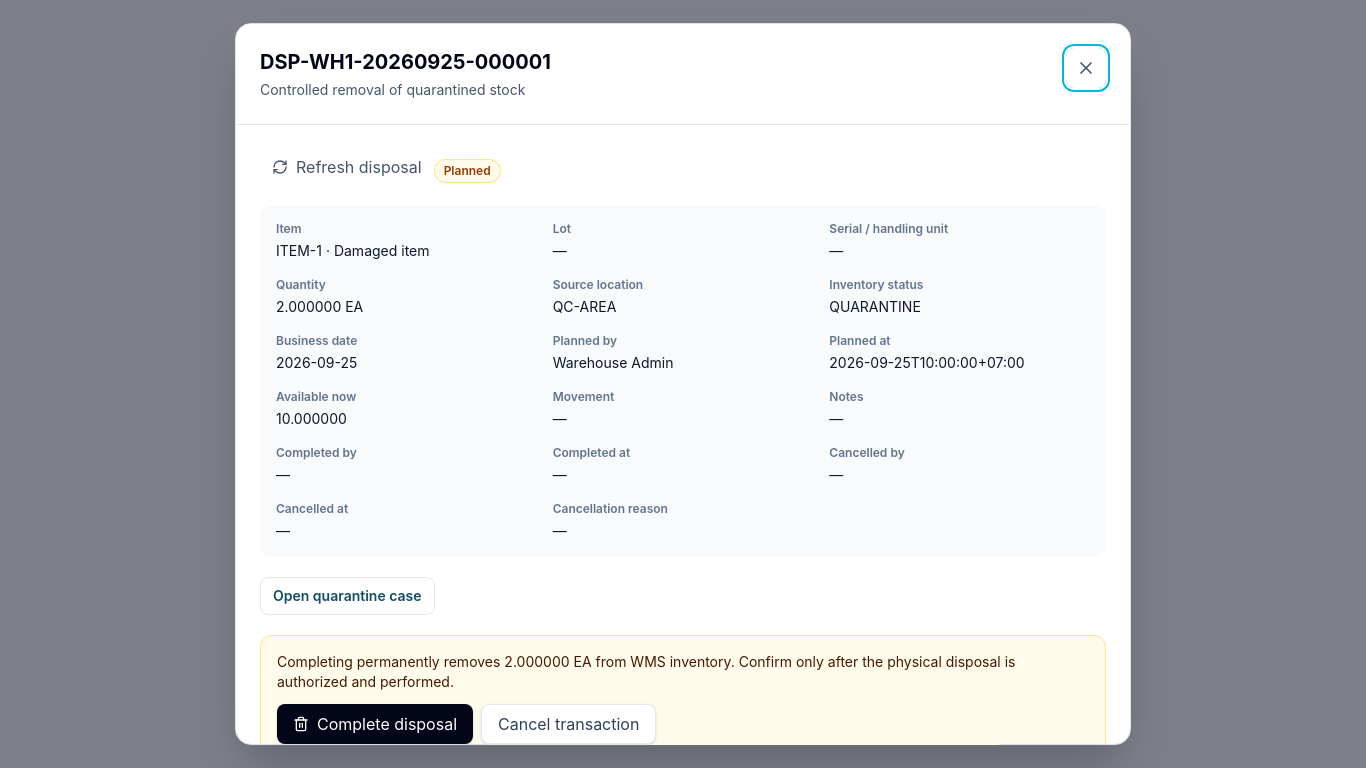
Test case: requires a second confirmation and posts both optimistic versions
The image size is (1366, 768).
Click the button "Complete disposal". click: (375, 724)
box: x1=277 y1=704 x2=473 y2=744
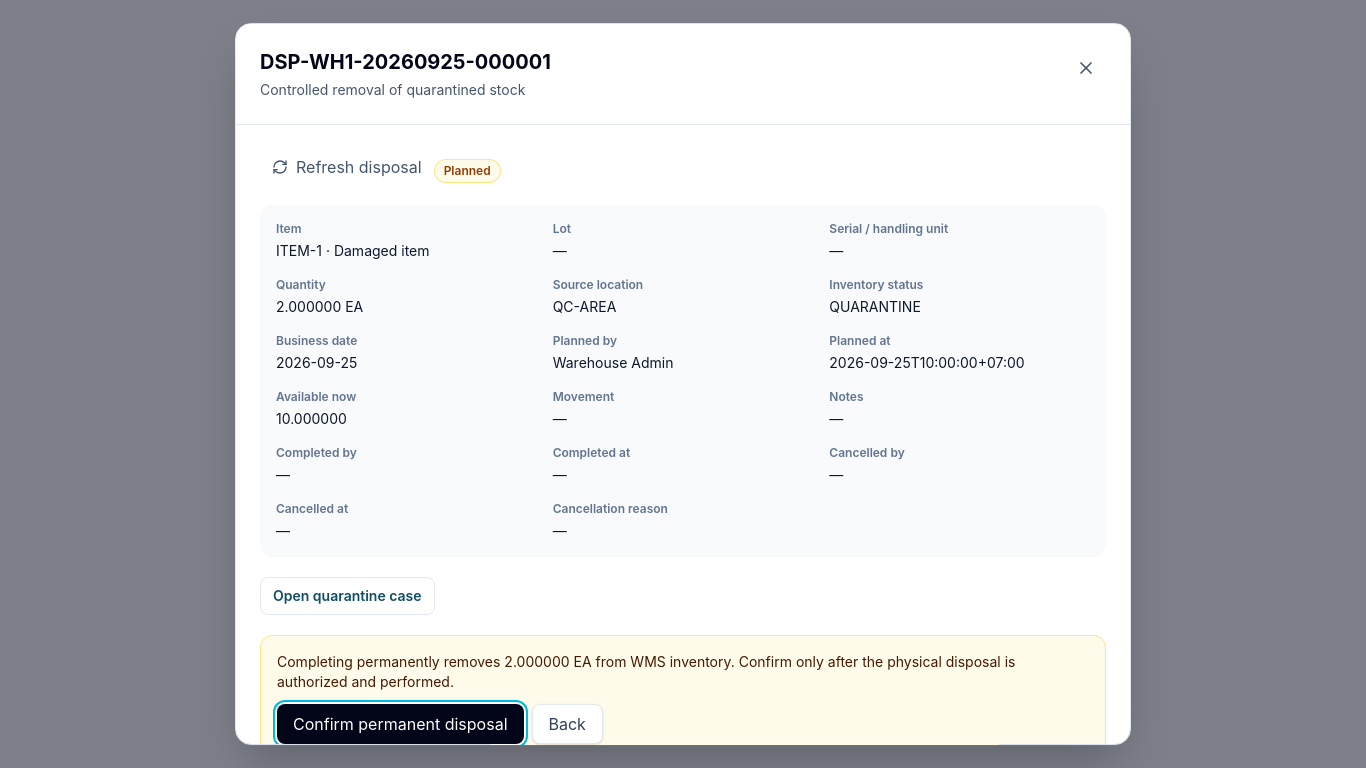
Click the button "Confirm permanent disposal". click: (400, 724)
box: x1=277 y1=704 x2=524 y2=744
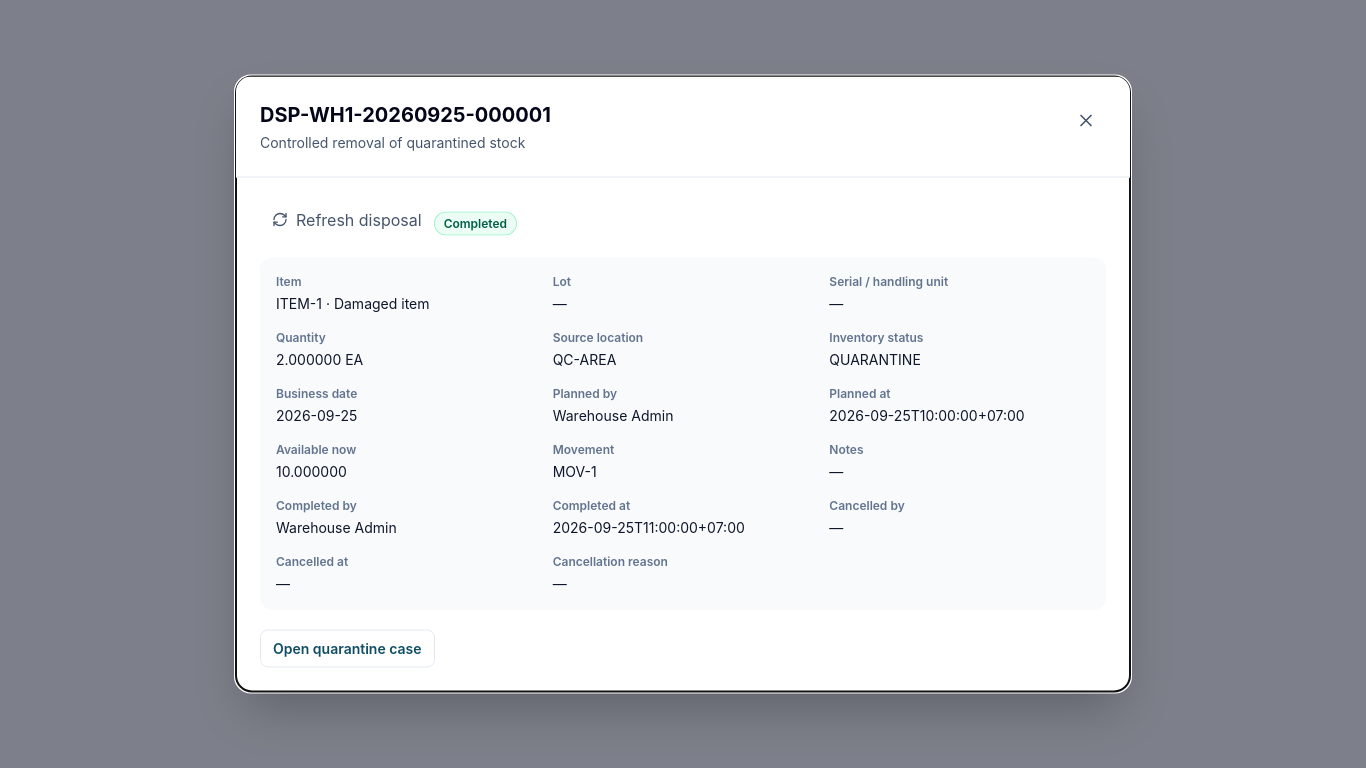
expect the text "Completed" is shown: met, box x1=434 y1=212 x2=517 y2=236
expect the text "MOV-1" is shown: met, box x1=553 y1=462 x2=597 y2=480
